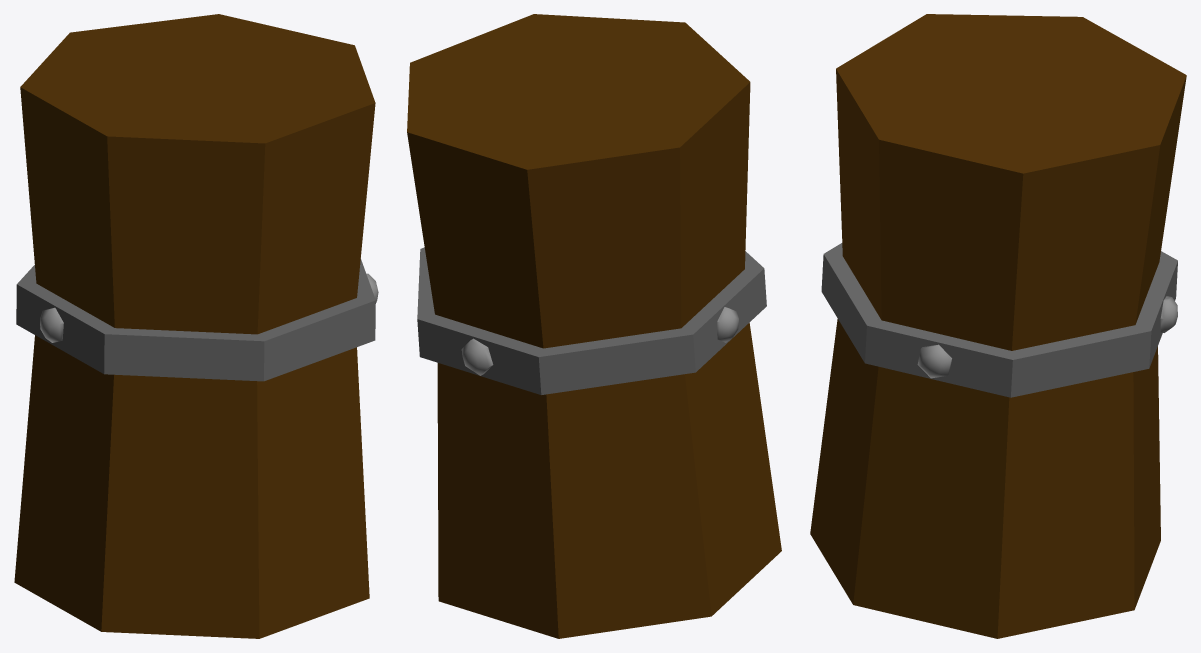
Rendered from Post.fbx.
The picture shows the model from 3 angles, left to right: view 1: azimuth 30°, elevation 25°; view 2: azimuth 150°, elevation 25°; view 3: azimuth 270°, elevation 25°; orthographic projection.
Parts seen in each view (by area): view 1: polySurface6; view 2: polySurface6; view 3: polySurface6.
Boxes of the visible parts, <box> form: polySurface6: <box>14,14,378,638</box>; polySurface6: <box>407,14,781,638</box>; polySurface6: <box>810,14,1186,638</box>.
Bounding box in the file's own units: 55.45 × 82.23 × 56.75.
